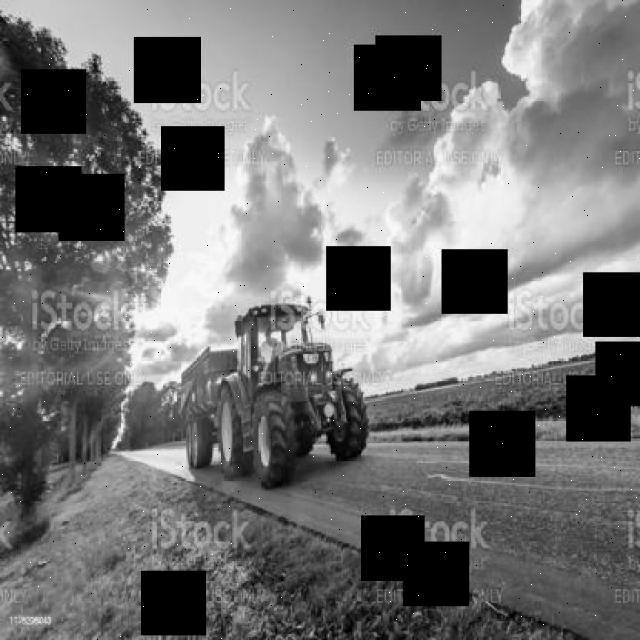Tratores - v5 YOLO V8L 2024-11-13: (158, 275, 377, 543)
